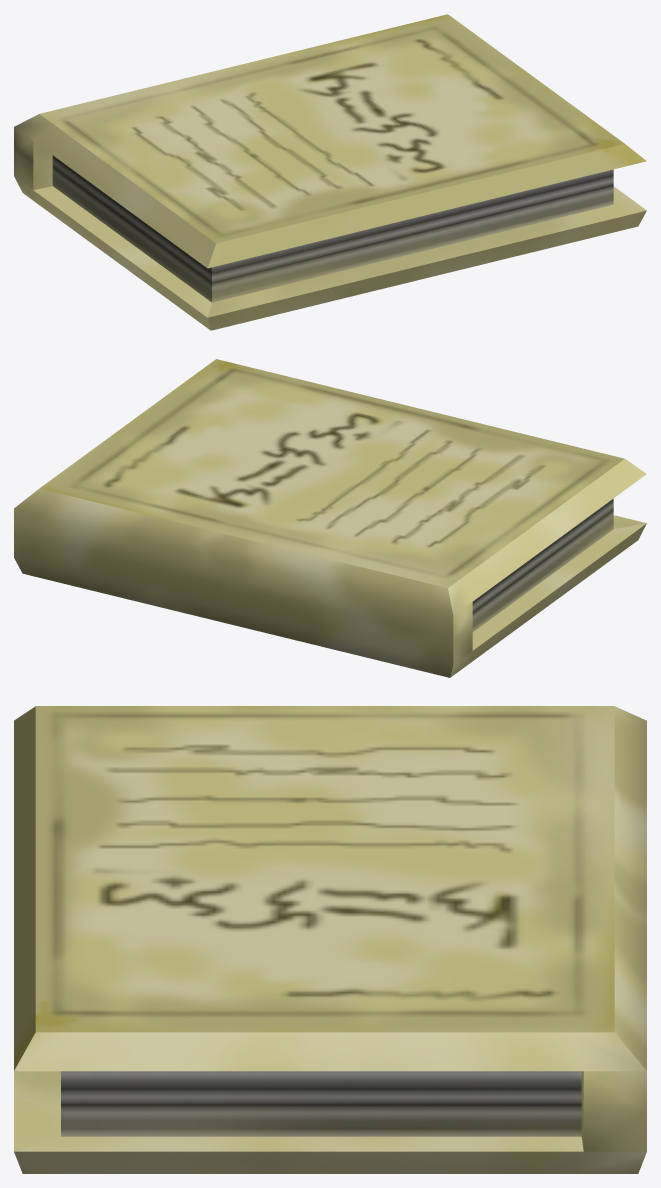
The model's file is Book.fbx.
3 renders of one model, top to bottom at view 1: azimuth 30°, elevation 25°; view 2: azimuth 150°, elevation 25°; view 3: azimuth 270°, elevation 25°, orthographic. The views are drawn at different scales.
Parts seen in each view (by area): view 1: pCube1; view 2: pCube1; view 3: pCube1.
Part boxes in pixels (<box>): pCube1: <box>14,14,646,330</box>; pCube1: <box>14,359,646,677</box>; pCube1: <box>14,706,646,1173</box>.
Bounding box in the file's own units: 17.7 × 3.16 × 13.51.
